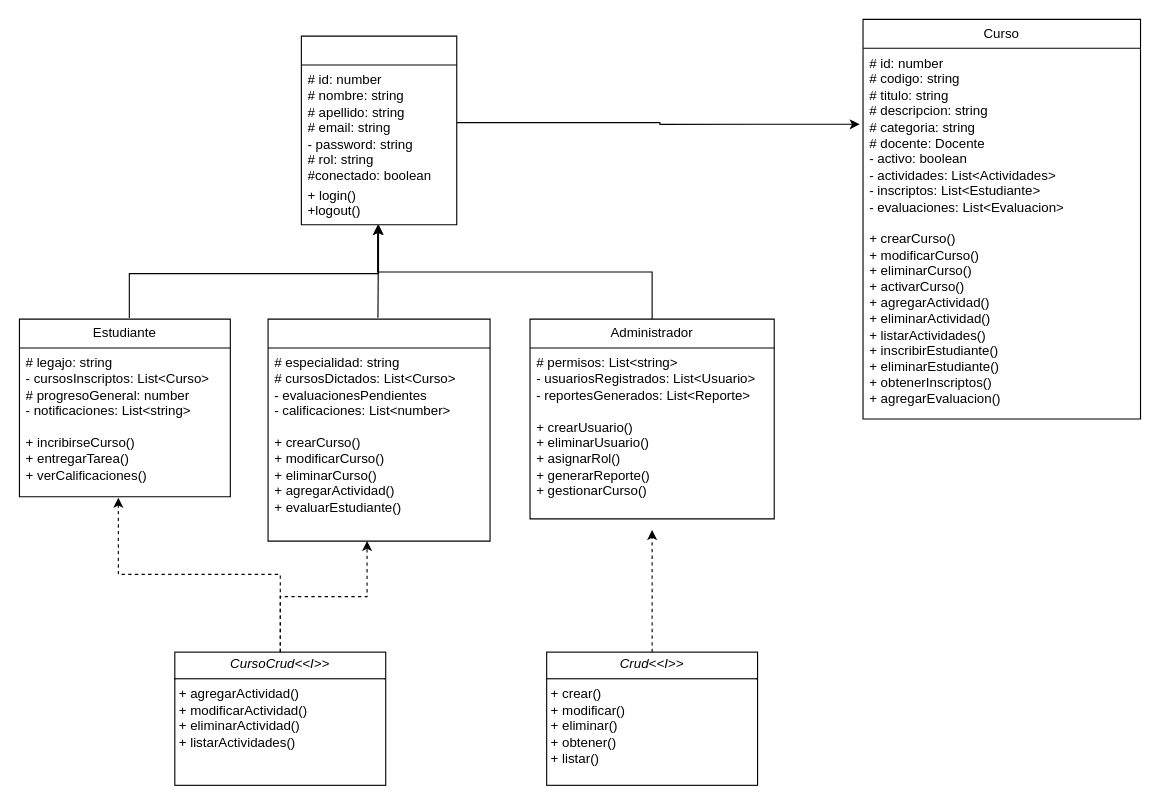
Some shapes in this 1160 by 805 pixel diagram are drawn without their labels. Here are the shapes that lost their labels. From the top down, the box of each, then its label:
(300, 35, 457, 225): Usuario
(267, 318, 490, 541): Docente
